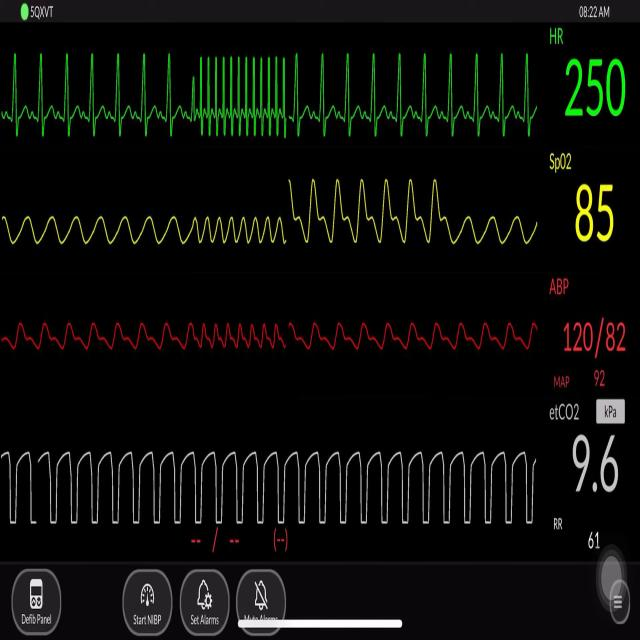danger: (193, 45, 290, 153)
